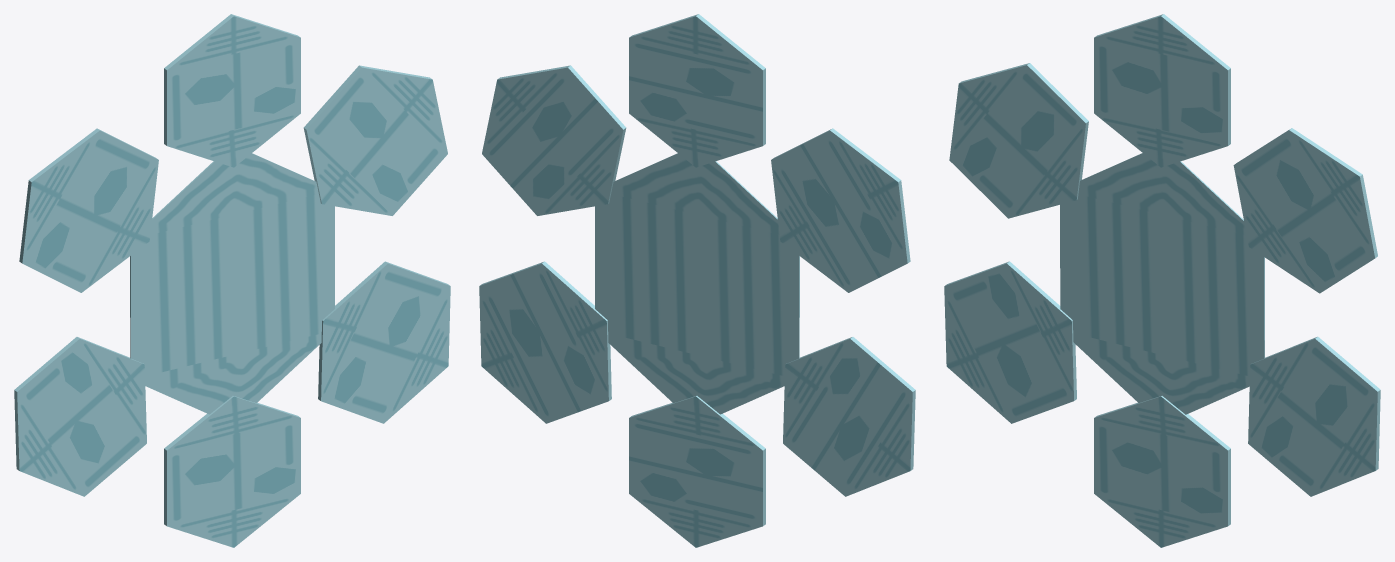
File: ice.fbx
The picture shows the model from 3 angles, left to right: view 1: azimuth 30°, elevation 25°; view 2: azimuth 150°, elevation 25°; view 3: azimuth 330°, elevation 25°; orthographic projection.
Parts seen in each view (by area): view 1: ice; view 2: ice; view 3: ice.
Boxes of the visible parts, box(x1,y1,x2,y2) form: ice: box(14, 14, 450, 547); ice: box(479, 14, 915, 547); ice: box(944, 14, 1380, 547).
Bounding box in the file's own units: 37.75 × 44.25 × 0.4462.
